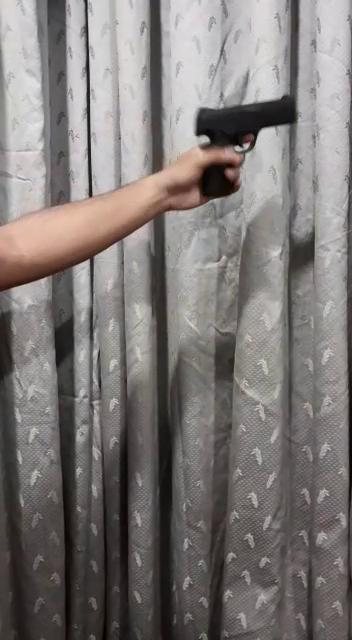weapon: (192, 89, 303, 205)
